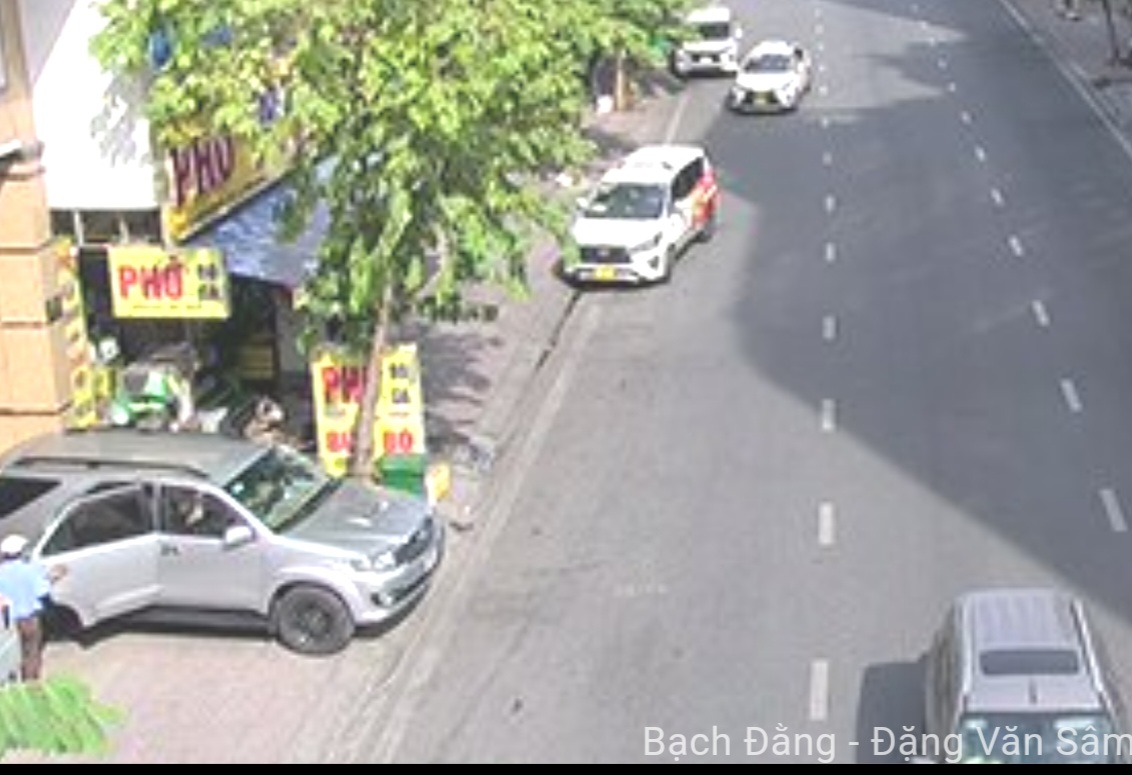car: (932, 587, 1125, 775), (565, 134, 720, 291), (737, 42, 815, 117), (677, 7, 739, 76)
